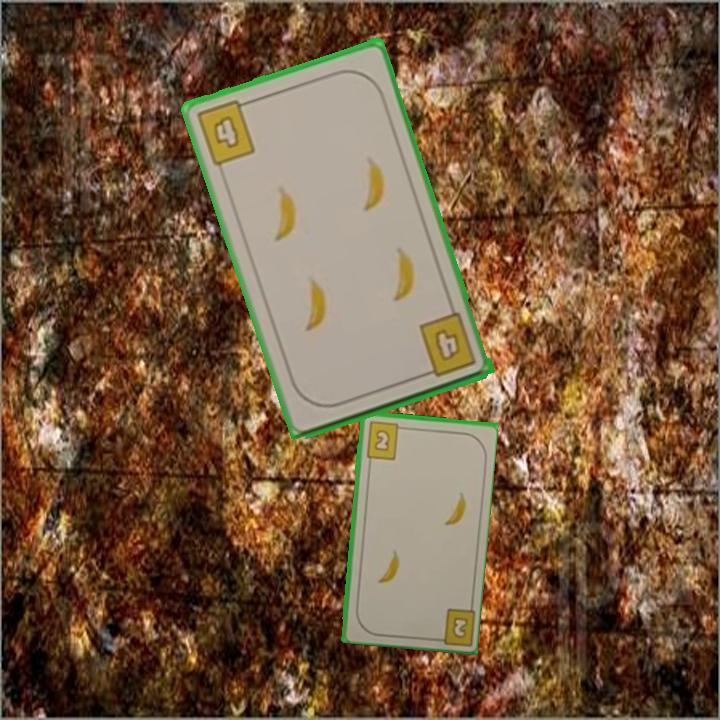2b: (362, 418, 407, 462), (429, 604, 476, 646)
4b: (192, 96, 258, 169), (414, 309, 479, 381)
